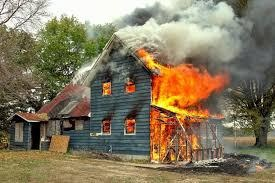fire: (148, 52, 225, 164)
